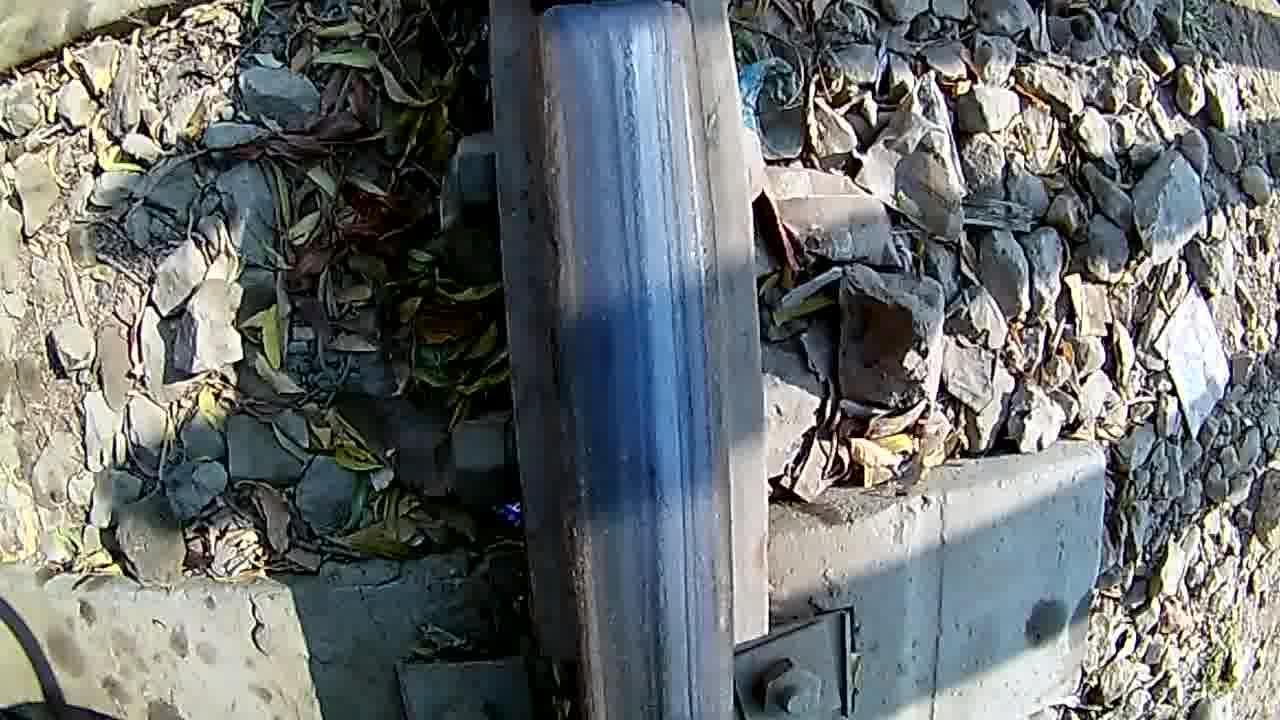crack: (538, 42, 712, 720)
